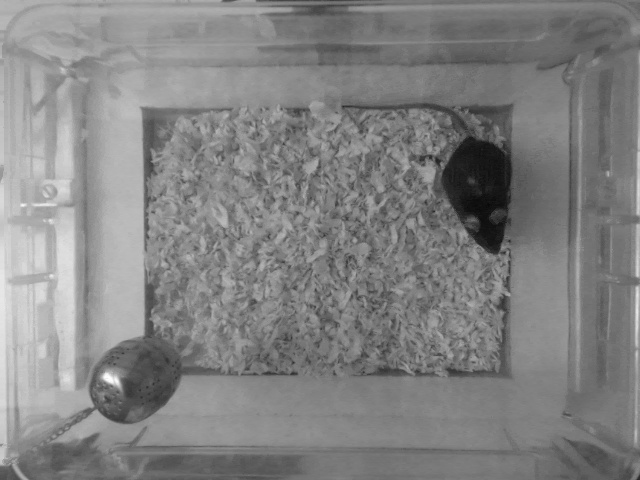mice: (336, 101, 508, 261)
